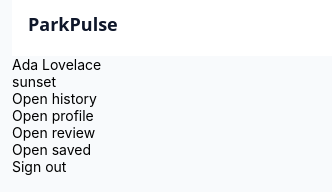
Test case: AppNavigator › navigates to report history from the map flow
This screenshot has width=332, height=192.
Click the element with test id "navigator-open-history-button" at (54, 98), box [12,90,97,107]
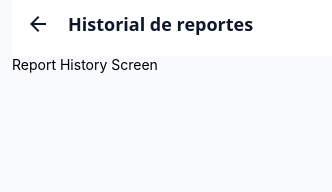
Now the text "Report History Screen" is shown, box [12,56,158,73]
